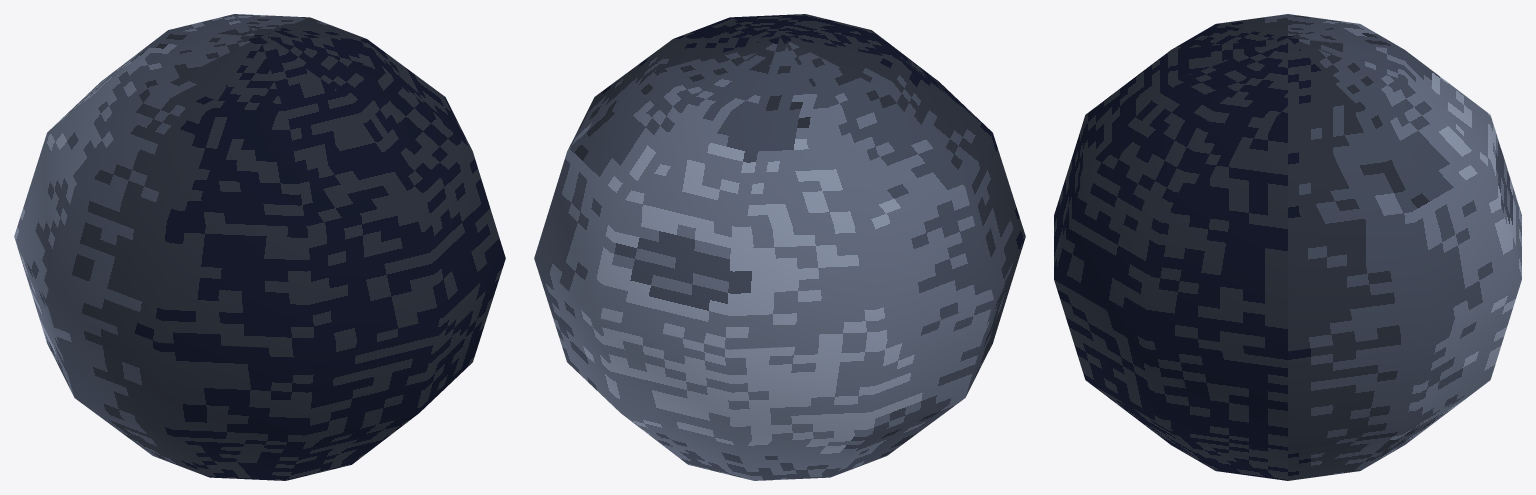
Rendered from skyx.planet__moon.glb.
3 renders of one model, left to right at view 1: azimuth 30°, elevation 25°; view 2: azimuth 150°, elevation 25°; view 3: azimuth 270°, elevation 25°, orthographic.
Visible parts, largest first — view 1: kit_shell_planet; view 2: kit_shell_planet; view 3: kit_shell_planet.
Part boxes in pixels (left/top/right/bottom): kit_shell_planet: left=14, top=14, right=505, bottom=480; kit_shell_planet: left=534, top=14, right=1025, bottom=480; kit_shell_planet: left=1054, top=14, right=1521, bottom=480.
Bounding box in the file's own units: 24 × 22.56 × 22.83.
Materials: 1 (1 with a texture image).
